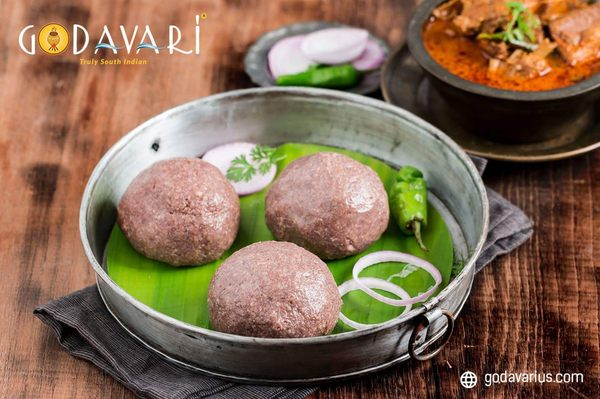sushi: (76, 86, 510, 393), (386, 0, 600, 161), (243, 22, 390, 94)
